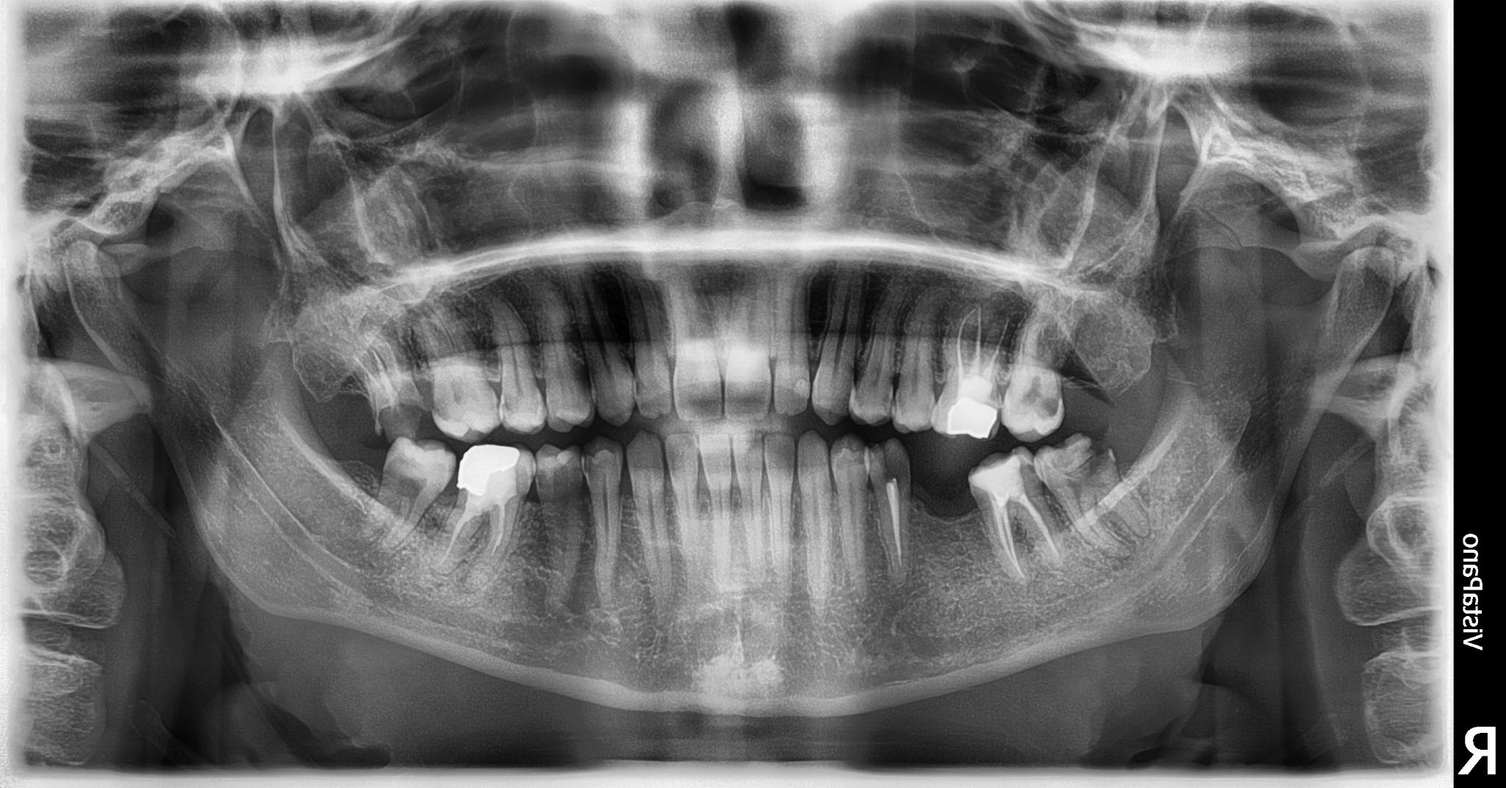Premolars: (528, 232, 1506, 675), (607, 296, 1506, 744), (464, 275, 1373, 716), (444, 227, 1294, 653), (527, 212, 1506, 544), (493, 235, 1506, 553), (461, 185, 1416, 479), (443, 191, 1356, 478), (321, 222, 917, 651), (281, 178, 789, 473), (257, 223, 728, 537), (220, 224, 632, 570)
